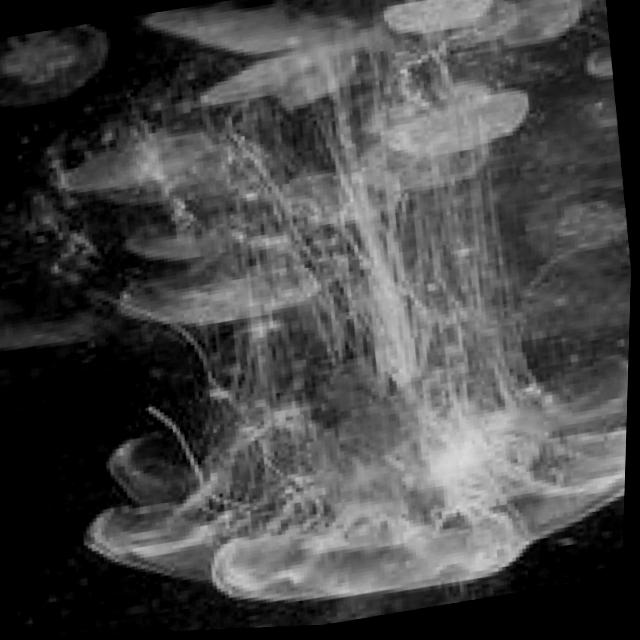Moon-jellyfish: (40, 121, 637, 638)
